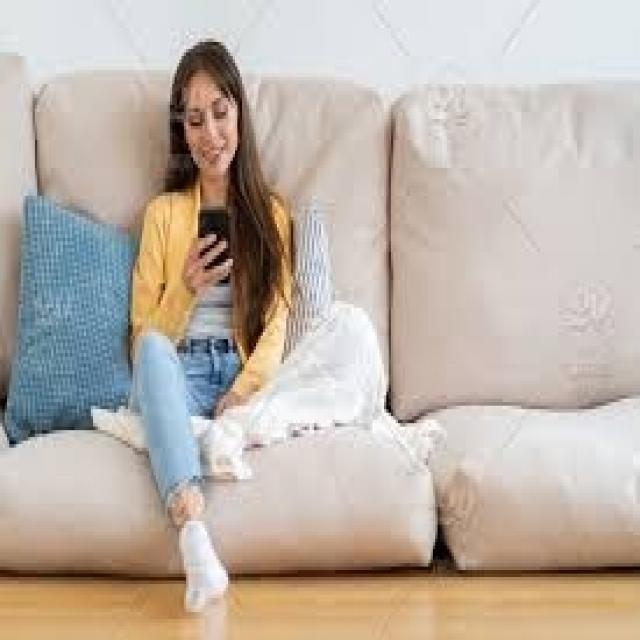sitting: (123, 40, 307, 617)
